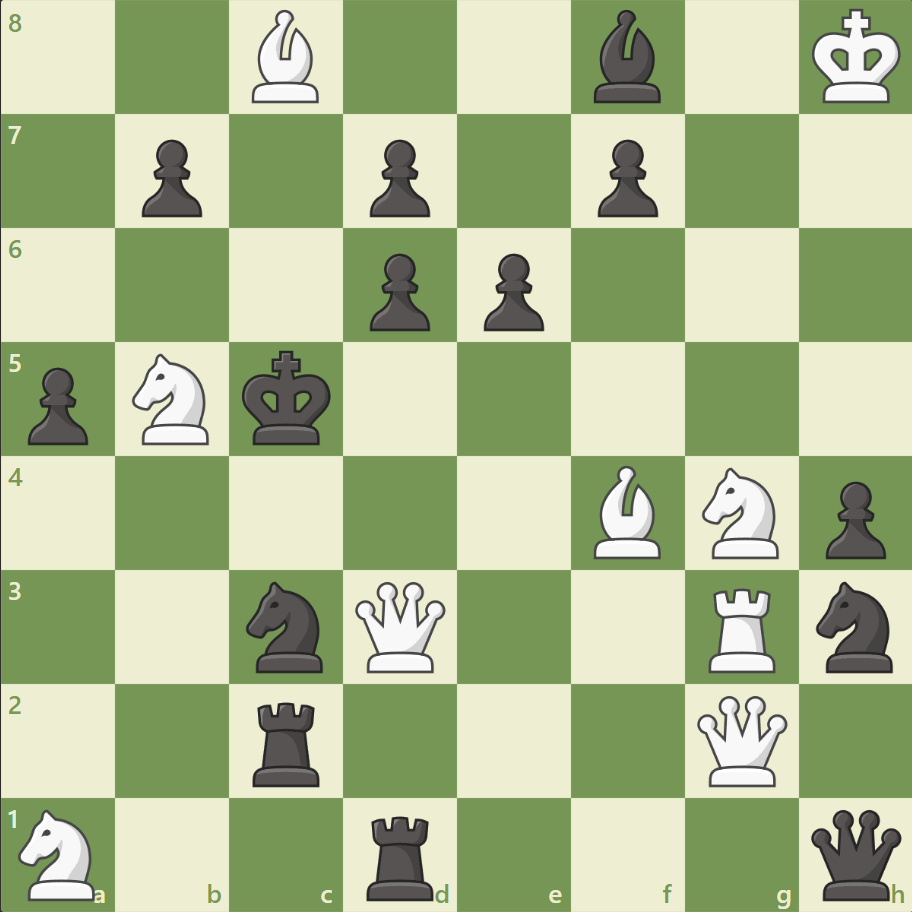B: (244, 6, 328, 109), (585, 460, 669, 563)
K: (806, 4, 906, 112)
N: (124, 348, 222, 450), (692, 461, 789, 564), (11, 802, 108, 904)
Q: (351, 576, 450, 676), (691, 690, 790, 789)
R: (700, 579, 783, 676)
b: (585, 6, 669, 109)
k: (238, 344, 338, 452)
n: (238, 575, 335, 677), (806, 575, 903, 677)
p: (133, 132, 208, 223), (474, 246, 549, 337), (20, 359, 95, 450), (361, 132, 435, 223), (588, 132, 662, 223), (361, 246, 435, 337), (815, 473, 889, 564)
q: (805, 804, 904, 903)
r: (246, 693, 329, 790), (360, 806, 442, 904)
